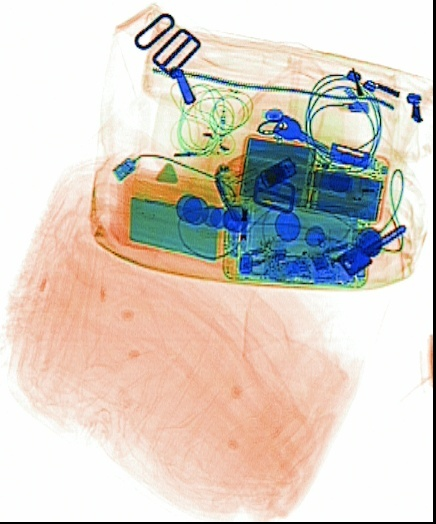powerbank: (234, 131, 391, 228)
